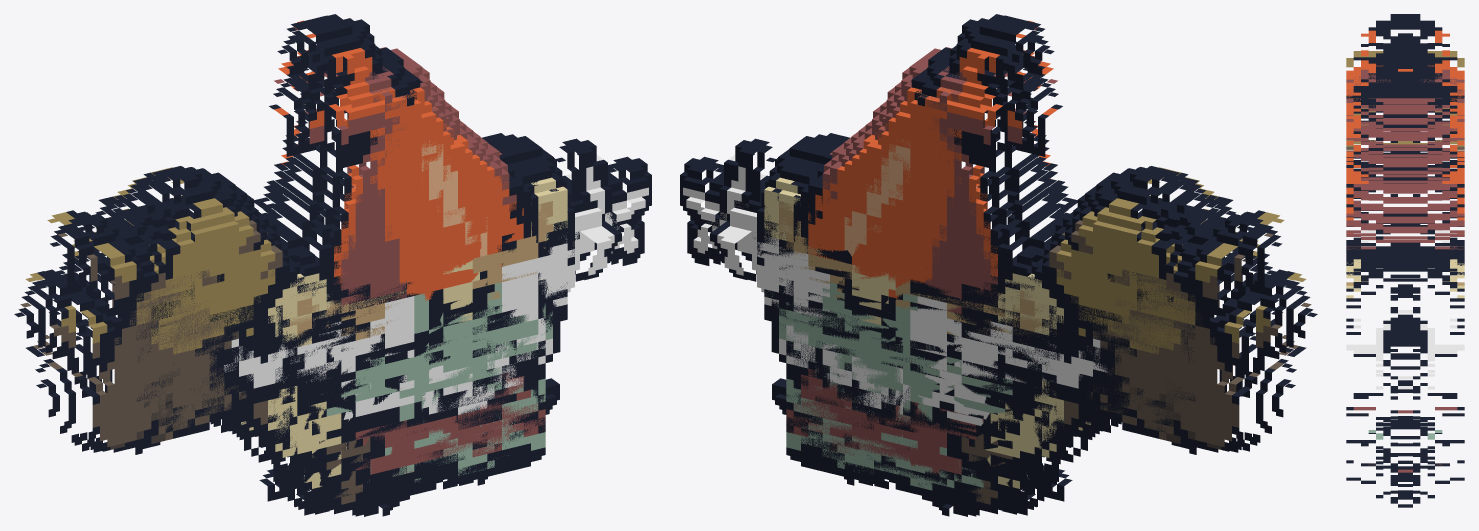
File: gnomo_andando.glb
3 renders of one model, left to right at view 1: azimuth 30°, elevation 25°; view 2: azimuth 150°, elevation 25°; view 3: azimuth 270°, elevation 25°, orthographic. The views are drawn at different scales.
Parts seen in each view (by area): view 1: q1, q0, q2, q5, q4; view 2: q0, q1, q2, q5, q4; view 3: q1, q0, q2, q5, q3.
Boxes of the visible parts, x1,y1,x2,y2 form: q1: (47, 14, 651, 515); q0: (14, 45, 644, 501); q2: (71, 18, 621, 516); q5: (294, 189, 545, 516); q4: (350, 186, 537, 494); q0: (687, 45, 1317, 501); q1: (680, 14, 1284, 515); q2: (710, 18, 1260, 516); q5: (786, 196, 1037, 516); q4: (794, 186, 983, 491); q1: (1346, 14, 1464, 503); q0: (1346, 47, 1464, 485); q2: (1346, 33, 1464, 507); q5: (1346, 246, 1464, 479); q3: (1368, 423, 1442, 476).
Size of the model in its own units: 85 by 64 by 16.
1 material, 1 textured.
